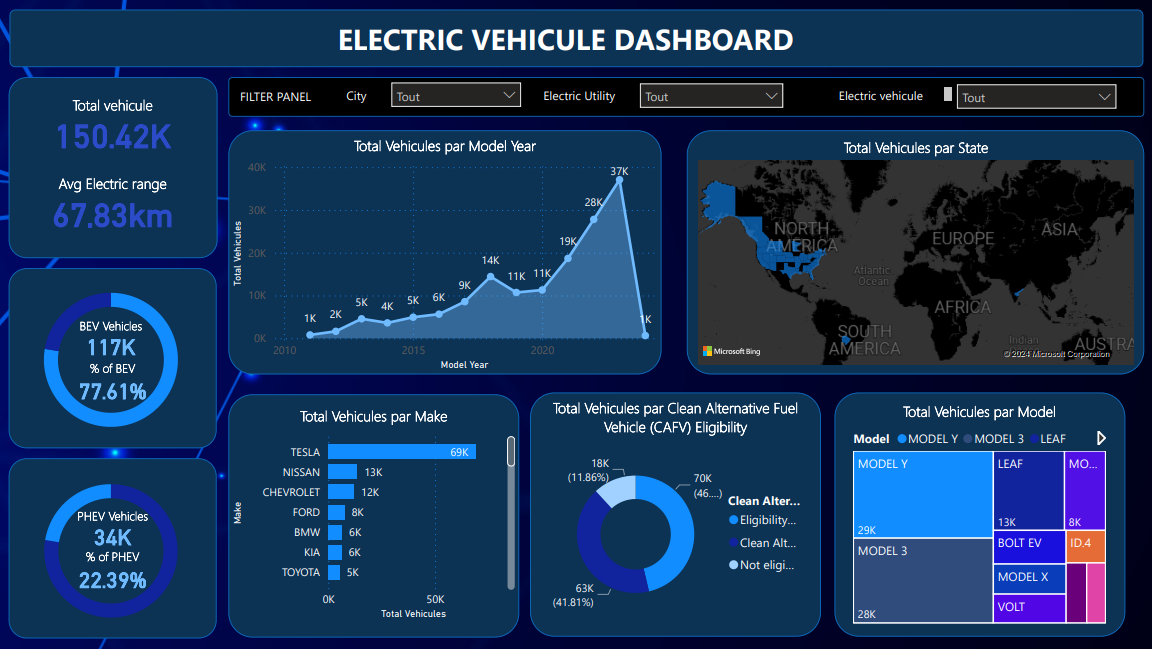

Layout of this report page (visuals, bound fields, positions):
{"tool":"powerbi","page":{"name":"Page 1","canvas":[1280,720],"ordinal":0},"visuals":[{"type":"shape","box":[10.6,10.6,1259.8,63.9],"z":0},{"type":"textbox","box":[369.5,16,543.1,53.2],"z":1000},{"type":"shape","box":[10.3,86,231.7,200.9],"z":2000},{"type":"card","title":"Total vehicule","fields":{"Values":["Electric_Vehicle_Population_Data.Total Vehicules"]},"box":[22.4,105.6,206.5,64.5],"z":3000},{"type":"card","title":"Avg Electric range","fields":{"Values":["Electric_Vehicle_Population_Data.AvgVeh"]},"box":[22.4,193.4,206.5,64.5],"z":4000},{"type":"shape","box":[10.3,298,230.8,199.9],"z":5000},{"type":"shape","box":[10.3,509.2,230.8,199.9],"z":6000},{"type":"donutChart","fields":{"Category":["Electric_Vehicle_Population_Data.Electric Vehicle Type"],"Y":["Electric_Vehicle_Population_Data.Total Vehicules"]},"box":[9.9,302.2,227.2,195.6],"z":7000},{"type":"card","title":"BEV Vehicles","fields":{"Values":["Electric_Vehicle_Population_Data.BEV Vehicles"]},"box":[61.2,352.6,124.4,47.4],"z":8000},{"type":"card","title":"% of BEV","fields":{"Values":["Electric_Vehicle_Population_Data.% of BEV Vehicles"]},"box":[69.1,400,112.6,51.4],"z":9000},{"type":"donutChart","fields":{"Category":["Electric_Vehicle_Population_Data.Electric Vehicle Type"],"Y":["Electric_Vehicle_Population_Data.Total Vehicules"]},"box":[9.9,513.6,227.2,195.6],"z":10000},{"type":"card","title":"PHEV Vehicles","fields":{"Values":["Electric_Vehicle_Population_Data.PHEV vehicule"]},"box":[63.2,564,124.4,47.4],"z":11000},{"type":"card","title":"% of PHEV","fields":{"Values":["Electric_Vehicle_Population_Data.% Of PHEV"]},"box":[69.1,609.4,112.6,51.4],"z":12000},{"type":"shape","box":[253.6,86,1017,44.3],"z":13000},{"type":"shape","box":[253.6,145.4,481.5,270.4],"z":14000},{"type":"areaChart","fields":{"Category":["Electric_Vehicle_Population_Data.Model Year"],"Y":["Electric_Vehicle_Population_Data.Total Vehicules"]},"box":[253.6,150.7,481.5,265.1],"z":15000},{"type":"shape","box":[762.6,145.4,508.1,270.4],"z":16000},{"type":"filledMap","fields":{"Category":["Electric_Vehicle_Population_Data.State"]},"box":[770.5,152.5,493,257.1],"z":17000},{"type":"shape","box":[253.6,438,323.6,270.4],"z":18000},{"type":"barChart","fields":{"Category":["Electric_Vehicle_Population_Data.Make"],"Y":["Electric_Vehicle_Population_Data.Total Vehicules"]},"box":[253.6,451.3,323.6,241.2],"z":19000},{"type":"shape","box":[588.8,436.3,323.6,270.4],"z":20000},{"type":"donutChart","fields":{"Category":["Electric_Vehicle_Population_Data.Clean Alternative Fuel Vehicle (CAFV) Eligibility"],"Y":["Electric_Vehicle_Population_Data.Total Vehicules"]},"box":[599.4,441.6,302.4,260.7],"z":21000},{"type":"shape","box":[926.6,436.3,323.6,270.4],"z":22000},{"type":"treemap","fields":{"Group":["Electric_Vehicle_Population_Data.Model"],"Values":["Electric_Vehicle_Population_Data.Total Vehicules"]},"box":[943.4,446,290,250.9],"z":23000},{"type":"textbox","box":[262.5,93.1,117.9,26.6],"z":24000},{"type":"slicer","fields":{"Values":["Electric_Vehicle_Population_Data.City"]},"box":[424.7,81.6,164,47],"z":25000},{"type":"textbox","box":[380.4,92.2,44.3,27.5],"z":26000},{"type":"slicer","fields":{"Values":["Electric_Vehicle_Population_Data.Electric Utility"]},"box":[701.4,83.3,179.1,47],"z":27000},{"type":"slicer","fields":{"Values":["Electric_Vehicle_Population_Data.Electric Vehicle Type"]},"box":[1052.5,84.2,197.7,47],"z":28000},{"type":"textbox","box":[599.4,92.2,115.3,31],"z":29000},{"type":"textbox","box":[926.6,92.2,135.7,31],"z":30000}]}

Visuals, with their boxes in screenshot pixels (x1, y1, x2, y2), scaled from the page's 1280x720 canvas onto the 1152x649 screenshot:
shape: 10, 10, 1143, 67
textbox: 333, 14, 821, 62
shape: 9, 78, 218, 259
"Total vehicule" card: 20, 95, 206, 153
"Avg Electric range" card: 20, 174, 206, 232
shape: 9, 269, 217, 449
shape: 9, 459, 217, 639
donutChart - Electric_Vehicle_Population_Data.Electric Vehicle Type x Electric_Vehicle_Population_Data.Total Vehicules: 9, 272, 213, 449
"BEV Vehicles" card: 55, 318, 167, 361
"% of BEV" card: 62, 361, 164, 407
donutChart - Electric_Vehicle_Population_Data.Electric Vehicle Type x Electric_Vehicle_Population_Data.Total Vehicules: 9, 463, 213, 639
"PHEV Vehicles" card: 57, 508, 169, 551
"% of PHEV" card: 62, 549, 164, 596
shape: 228, 78, 1144, 117
shape: 228, 131, 662, 375
areaChart - Electric_Vehicle_Population_Data.Model Year x Electric_Vehicle_Population_Data.Total Vehicules: 228, 136, 662, 375
shape: 686, 131, 1144, 375
filledMap - Electric_Vehicle_Population_Data.State: 693, 137, 1137, 369
shape: 228, 395, 519, 639
barChart - Electric_Vehicle_Population_Data.Make x Electric_Vehicle_Population_Data.Total Vehicules: 228, 407, 519, 624
shape: 530, 393, 821, 637
donutChart - Electric_Vehicle_Population_Data.Clean Alternative Fuel Vehicle (CAFV) Eligibility x Electric_Vehicle_Population_Data.Total Vehicules: 539, 398, 812, 633
shape: 834, 393, 1125, 637
treemap - Electric_Vehicle_Population_Data.Model x Electric_Vehicle_Population_Data.Total Vehicules: 849, 402, 1110, 628
textbox: 236, 84, 342, 108
slicer - Electric_Vehicle_Population_Data.City: 382, 74, 530, 116
textbox: 342, 83, 382, 108
slicer - Electric_Vehicle_Population_Data.Electric Utility: 631, 75, 792, 117
slicer - Electric_Vehicle_Population_Data.Electric Vehicle Type: 947, 76, 1125, 118
textbox: 539, 83, 643, 111
textbox: 834, 83, 956, 111
